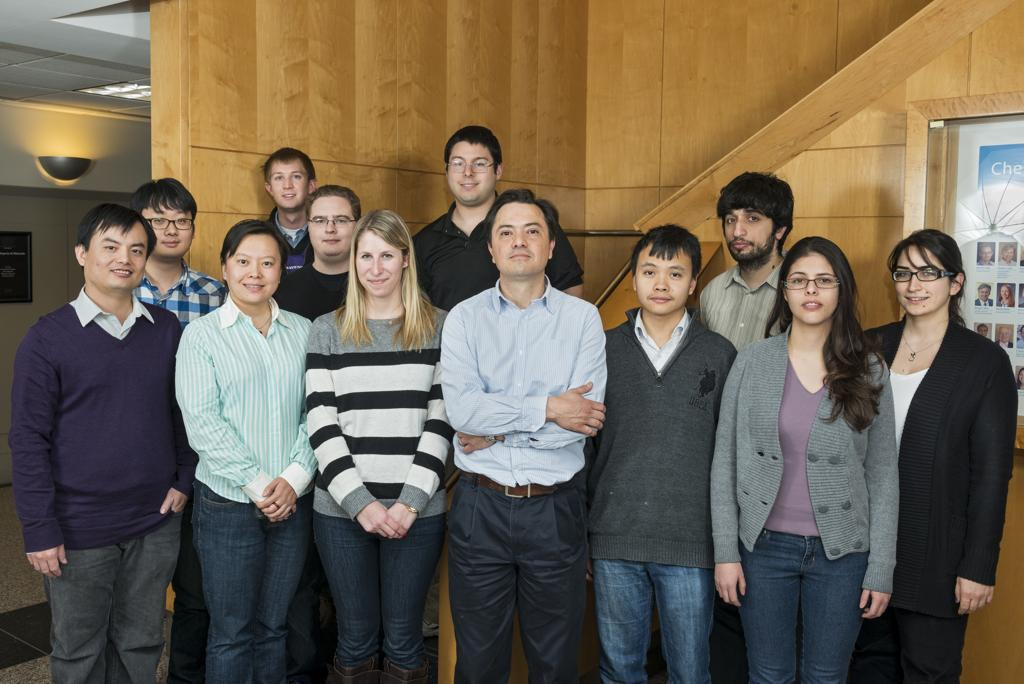face: (494, 209, 550, 275), (85, 230, 148, 288), (896, 252, 951, 317), (637, 251, 693, 314), (786, 262, 841, 325), (226, 241, 281, 303), (723, 202, 777, 260), (357, 236, 404, 296), (447, 146, 497, 202), (144, 203, 192, 256), (309, 206, 353, 255), (271, 163, 308, 209)
